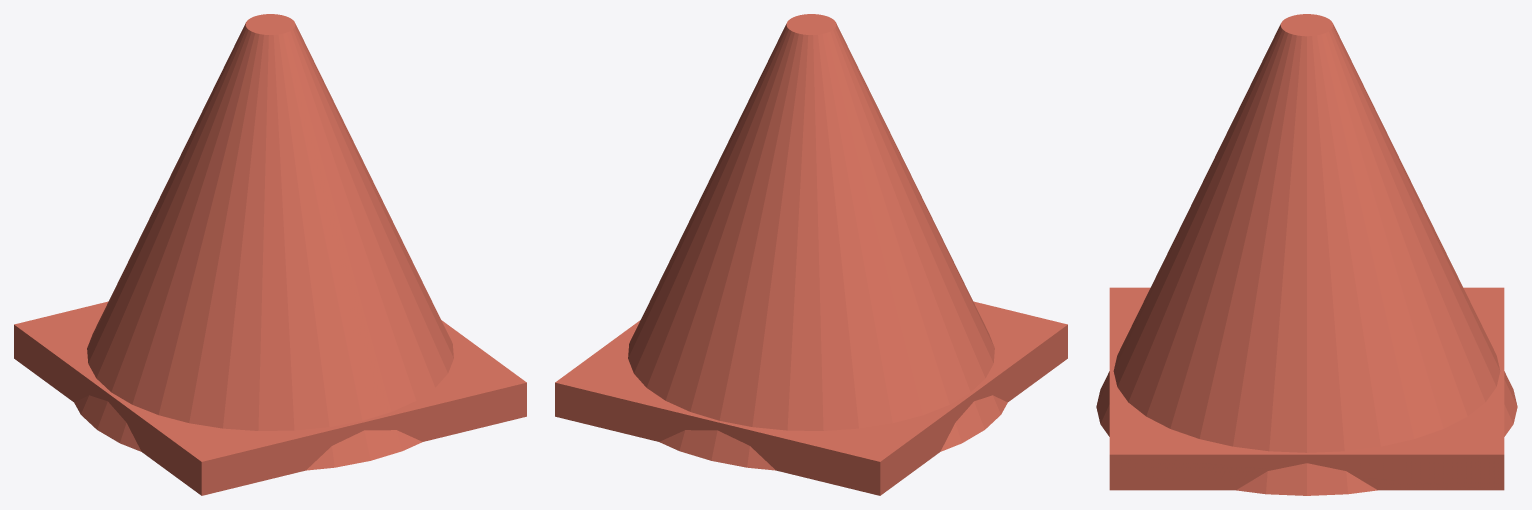
Rendered from cone_red.glb.
The picture shows the model from 3 angles, left to right: view 1: azimuth 30°, elevation 25°; view 2: azimuth 150°, elevation 25°; view 3: azimuth 270°, elevation 25°; orthographic projection. The views are drawn at different scales.
Visible parts, largest first — view 1: cone_red, cone_red_base; view 2: cone_red, cone_red_base; view 3: cone_red, cone_red_base.
Part boxes in pixels (x1,y1,x2,y2): cone_red: (74, 14, 453, 470); cone_red_base: (14, 301, 526, 495); cone_red: (628, 14, 1007, 470); cone_red_base: (555, 301, 1067, 495); cone_red: (1096, 14, 1517, 495); cone_red_base: (1109, 287, 1504, 490).
Bounding box in the file's own units: 0.32 × 0.32 × 0.32.
